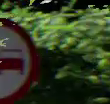No overtake: (1, 11, 40, 99)
